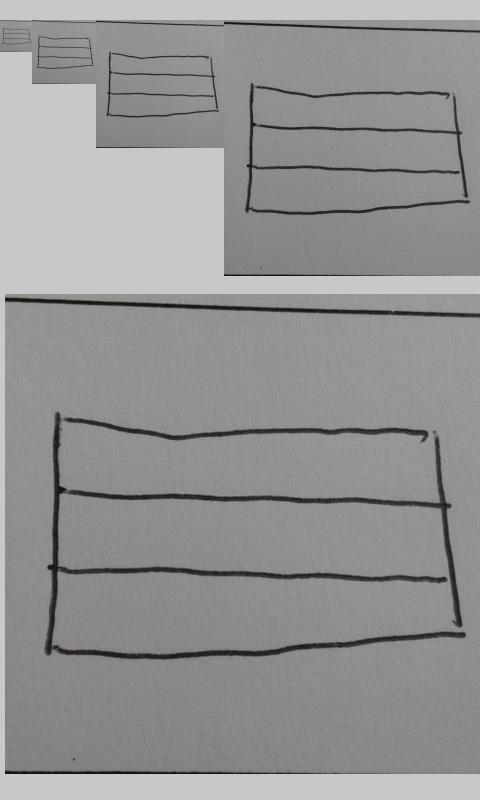list_view: (41, 412, 463, 667), (241, 81, 472, 217), (106, 48, 220, 119), (36, 34, 94, 70), (2, 27, 32, 46)
